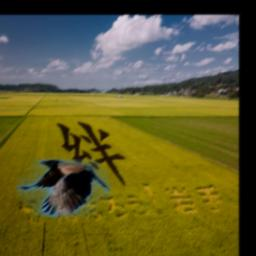Crow: (18, 159, 111, 217)
